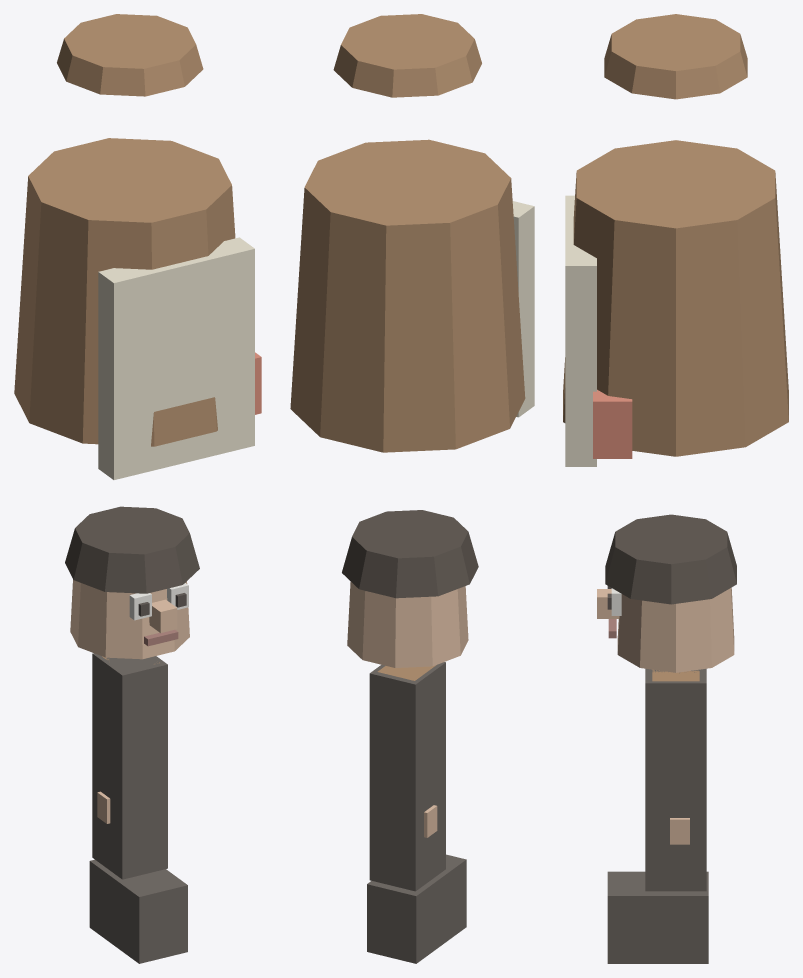
Rendered from npc_oswin.glb.
3 renders of one model, left to right at view 1: azimuth 30°, elevation 25°; view 2: azimuth 150°, elevation 25°; view 3: azimuth 270°, elevation 25°, orthographic.
Visible parts, largest first — view 1: Torso, Apron, LimbLegL, HatCap, Hair, BootL, Head, Nose; view 2: Torso, LimbLegL, HatCap, Hair, Head, BootL, Apron; view 3: Torso, LimbLegL, HatCap, Hair, BootL, Head, Apron, PropPouch, ThumbL, LimbArmL.
Boxes of the visible parts, bbox=[...] form: Torso: bbox=[14, 138, 235, 446]; Apron: bbox=[98, 237, 254, 479]; LimbLegL: bbox=[92, 653, 167, 879]; HatCap: bbox=[57, 14, 203, 96]; Hair: bbox=[65, 506, 199, 593]; BootL: bbox=[89, 859, 187, 963]; Head: bbox=[70, 579, 189, 659]; Nose: bbox=[149, 599, 177, 632]; Torso: bbox=[290, 139, 525, 452]; LimbLegL: bbox=[369, 662, 445, 891]; HatCap: bbox=[333, 14, 481, 97]; Hair: bbox=[342, 510, 478, 598]; Head: bbox=[347, 581, 468, 667]; BootL: bbox=[367, 854, 466, 963]; Apron: bbox=[512, 201, 534, 417]; Torso: bbox=[563, 140, 788, 456]; LimbLegL: bbox=[645, 668, 706, 891]; HatCap: bbox=[604, 14, 747, 99]; Hair: bbox=[605, 514, 736, 604]; BootL: bbox=[607, 871, 708, 963]; Head: bbox=[617, 587, 734, 672]; Apron: bbox=[565, 195, 596, 466]; PropPouch: bbox=[593, 389, 632, 458]; ThumbL: bbox=[670, 818, 689, 844]; LimbArmL: bbox=[652, 669, 699, 681].
Size of the model in its own units: 0.6 by 2.53 by 0.5706.
